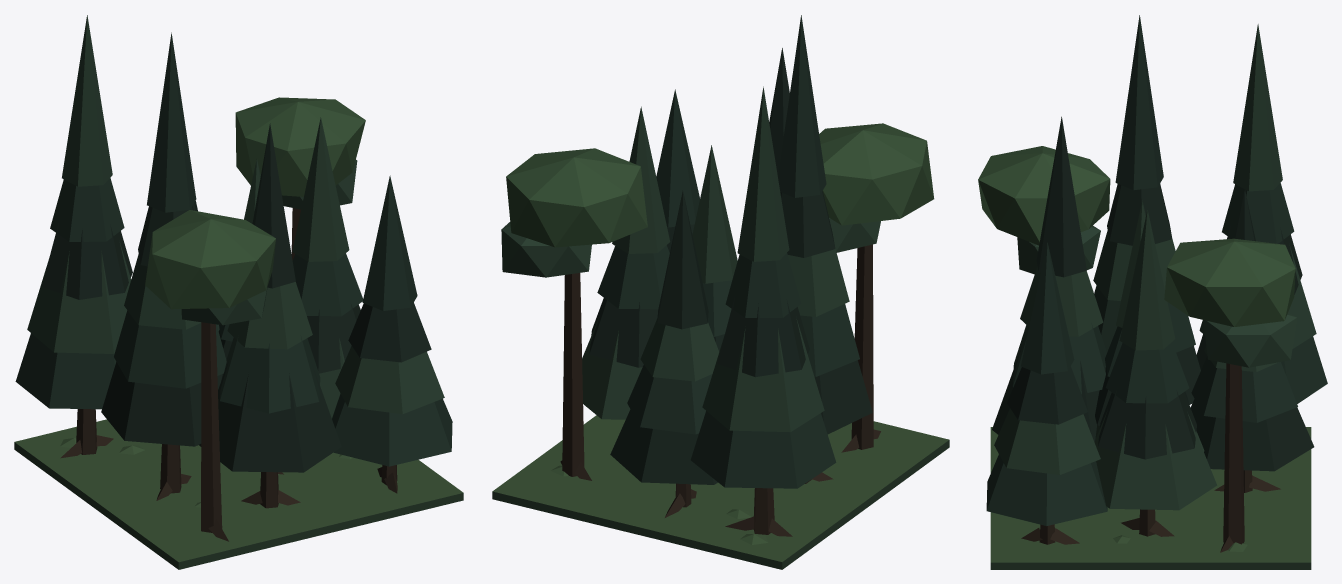
File: forest_4.glb
3 views of the same model, side by side, from view 1: azimuth 30°, elevation 25°; view 2: azimuth 150°, elevation 25°; view 3: azimuth 270°, elevation 25° (orthographic). The views are drawn at different scales.
Visible parts, largest first — view 1: forest_4; view 2: forest_4; view 3: forest_4.
Part boxes in pixels (<box>): forest_4: <box>14,15,463,569</box>; forest_4: <box>492,15,949,569</box>; forest_4: <box>978,15,1327,569</box>.
Bounding box in the file's own units: 4.28 × 6.1 × 4.25.
